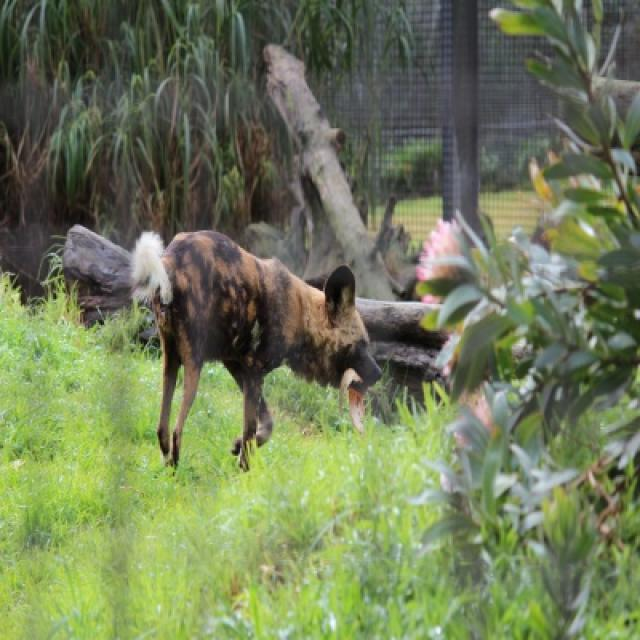hyena: (64, 230, 384, 472)
